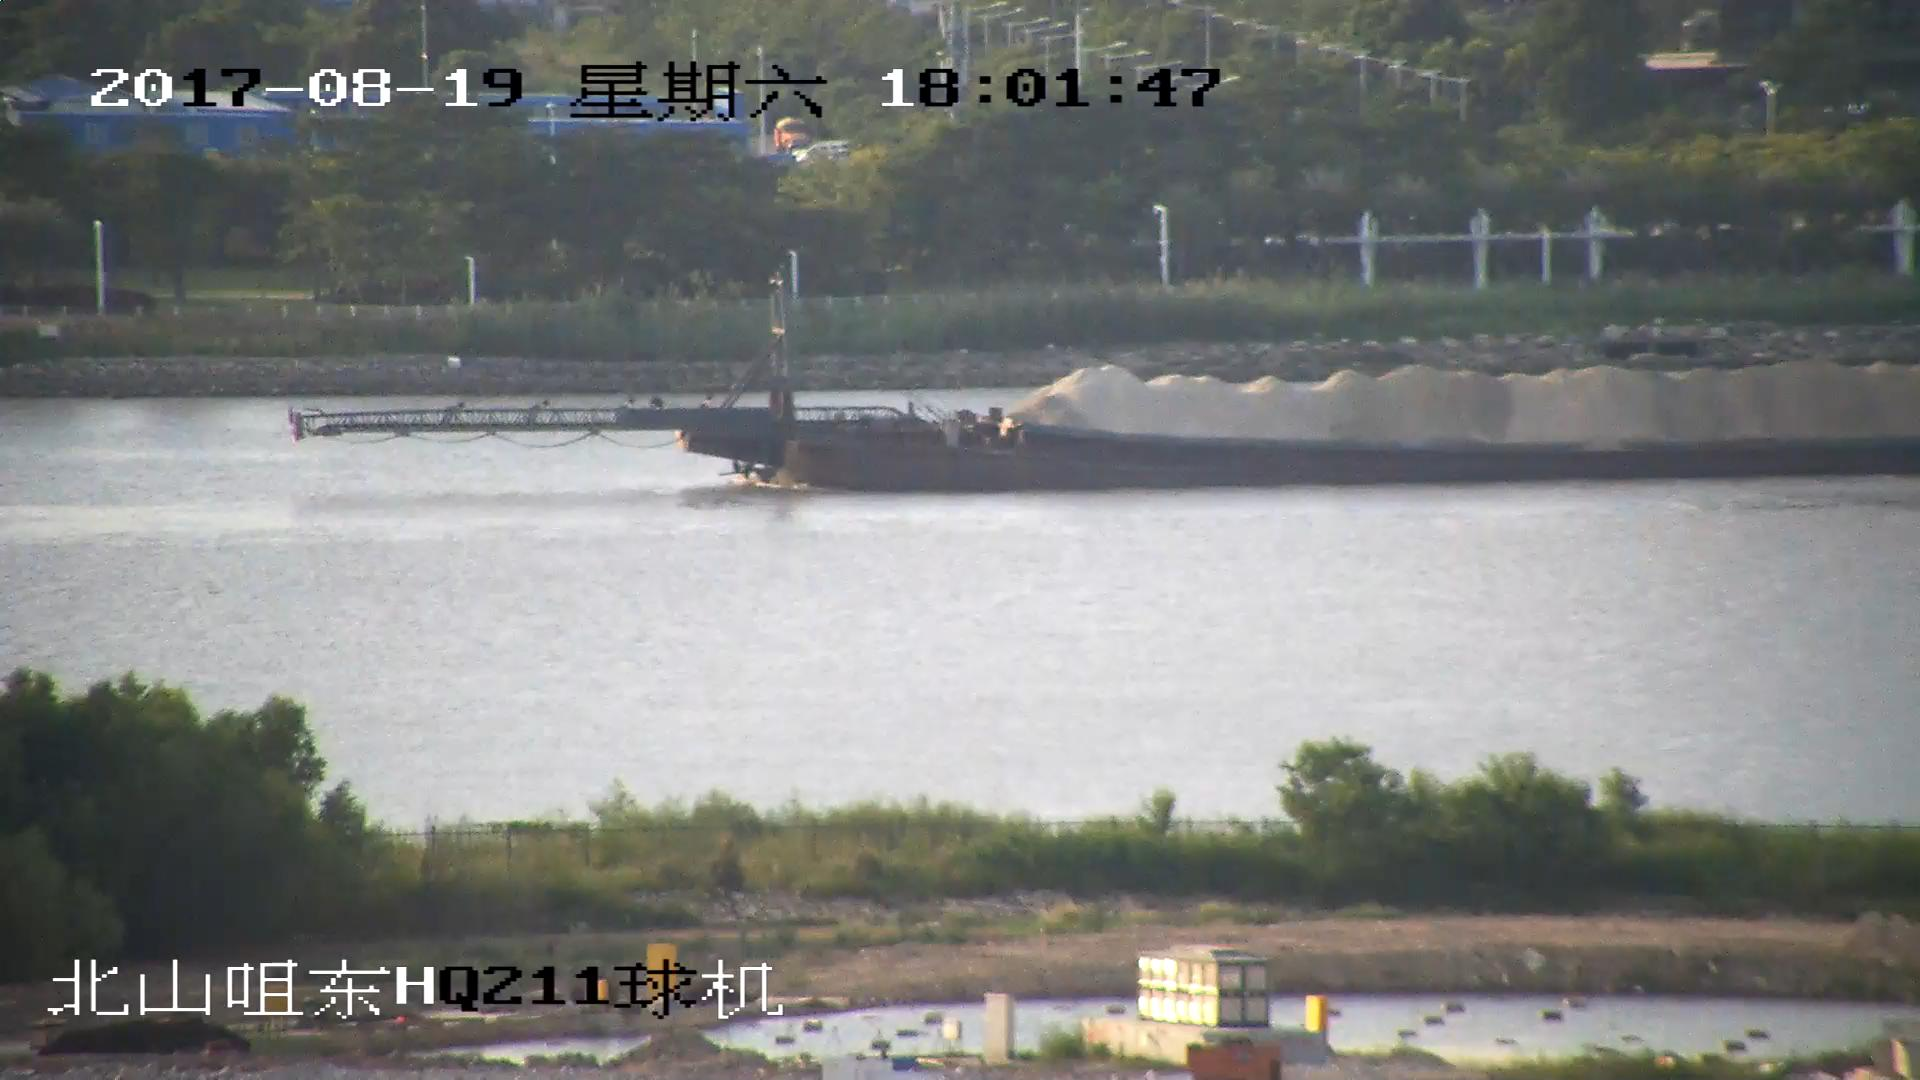ore carrier: (291, 279, 1920, 492)
